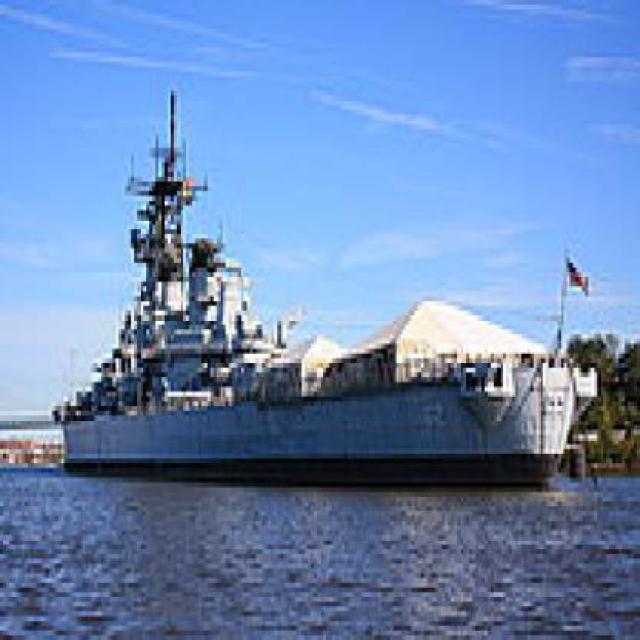warship2: (50, 68, 599, 483)
